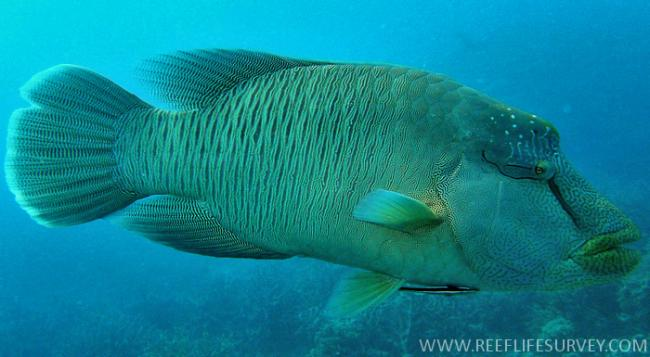fish: (4, 48, 639, 320)
